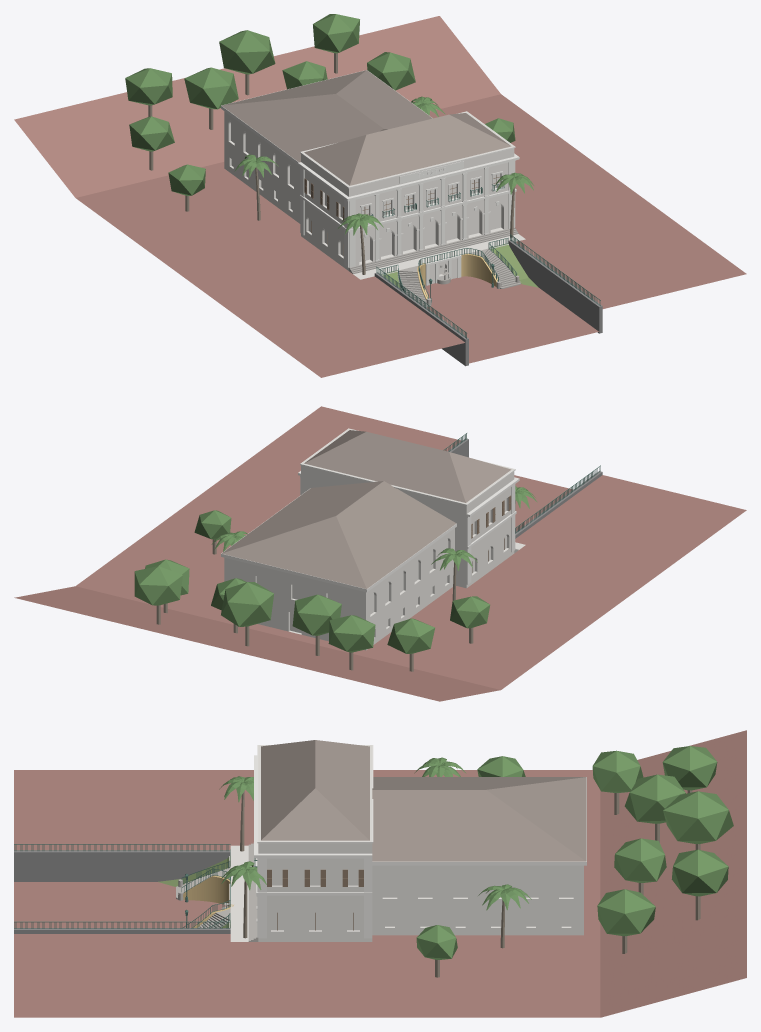
File: theatre-avant.glb
3 views of the same model, one above another, from view 1: azimuth 30°, elevation 25°; view 2: azimuth 150°, elevation 25°; view 3: azimuth 270°, elevation 25° (orthographic). The views are drawn at different scales.
Visible parts, largest first — view 1: Sol, Corps, Toitures, Feuillages, Parvis_bas, Modenature, Murs_parvis, Ferronneries, Marches_arcades, Escaliers, Troncs, Murs_cour (+1 smaller); view 2: Sol, Toitures, Corps, Feuillages, Modenature, Parvis_bas, Troncs, Murs_parvis, Ferronneries; view 3: Sol, Toitures, Corps, Feuillages, Parvis_bas, Murs_parvis, Modenature, Ferronneries, Troncs, Murs_cour, Marches_arcades, Escaliers (+2 smaller).
Boxes of the visible parts, bbox=[...] form: Sol: bbox=[14, 16, 746, 377]; Corps: bbox=[224, 111, 525, 284]; Toitures: bbox=[222, 70, 511, 185]; Feuillages: bbox=[125, 14, 533, 235]; Parvis_bas: bbox=[424, 276, 598, 363]; Modenature: bbox=[221, 70, 519, 285]; Murs_parvis: bbox=[374, 240, 602, 366]; Ferronneries: bbox=[370, 184, 600, 338]; Marches_arcades: bbox=[349, 227, 518, 273]; Escaliers: bbox=[397, 248, 521, 307]; Troncs: bbox=[148, 53, 515, 274]; Murs_cour: bbox=[417, 253, 497, 299]; Sol: bbox=[14, 406, 746, 701]; Toitures: bbox=[222, 430, 511, 588]; Corps: bbox=[224, 429, 525, 650]; Feuillages: bbox=[134, 486, 537, 653]; Modenature: bbox=[221, 428, 519, 592]; Parvis_bas: bbox=[514, 475, 573, 531]; Troncs: bbox=[156, 500, 515, 671]; Murs_parvis: bbox=[448, 438, 602, 538]; Ferronneries: bbox=[443, 433, 600, 533]; Sol: bbox=[14, 730, 746, 1017]; Toitures: bbox=[261, 740, 586, 861]; Corps: bbox=[230, 745, 583, 941]; Feuillages: bbox=[219, 746, 733, 959]; Parvis_bas: bbox=[14, 882, 227, 927]; Murs_parvis: bbox=[14, 850, 230, 933]; Modenature: bbox=[229, 745, 586, 938]; Ferronneries: bbox=[14, 844, 257, 928]; Troncs: bbox=[240, 790, 700, 977]; Murs_cour: bbox=[183, 875, 233, 927]; Marches_arcades: bbox=[248, 842, 258, 941]; Escaliers: bbox=[176, 867, 230, 927].
Size of the model in its own units: 72 by 21.4 by 90.01.
